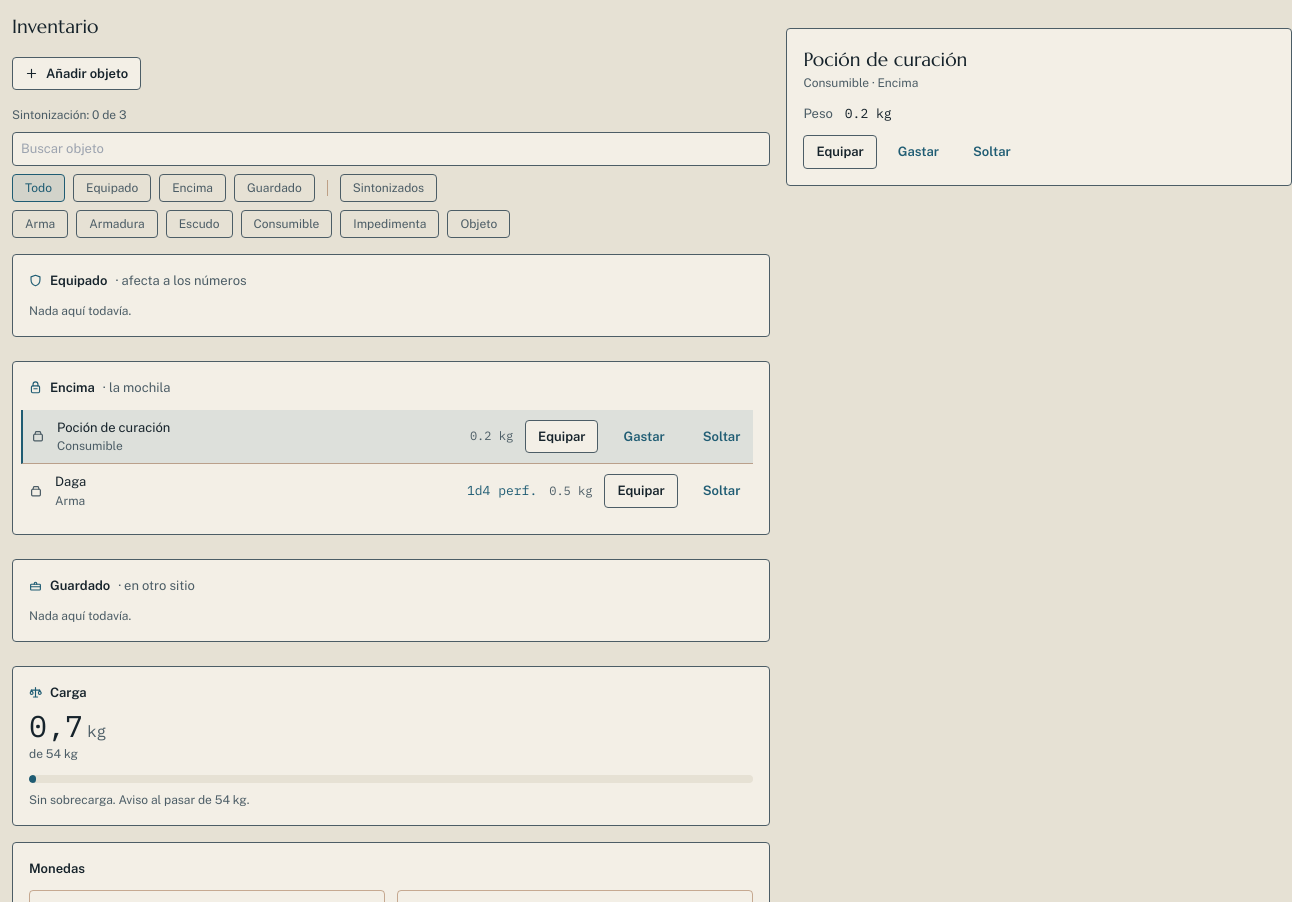
Scenario: PaginaDeInventario — a página (tarea 9) › HP-2: a página, equipar un arma desde la lista pregunta la mano en el detalle, una sola vez
The width and height of the screenshot is (1292, 902).
Expected: the heading "Poción de curación" is shown, [803, 47, 967, 71]
Click the button "Equipar" next to "0.5 kg" at [641, 491], box [604, 474, 678, 508]
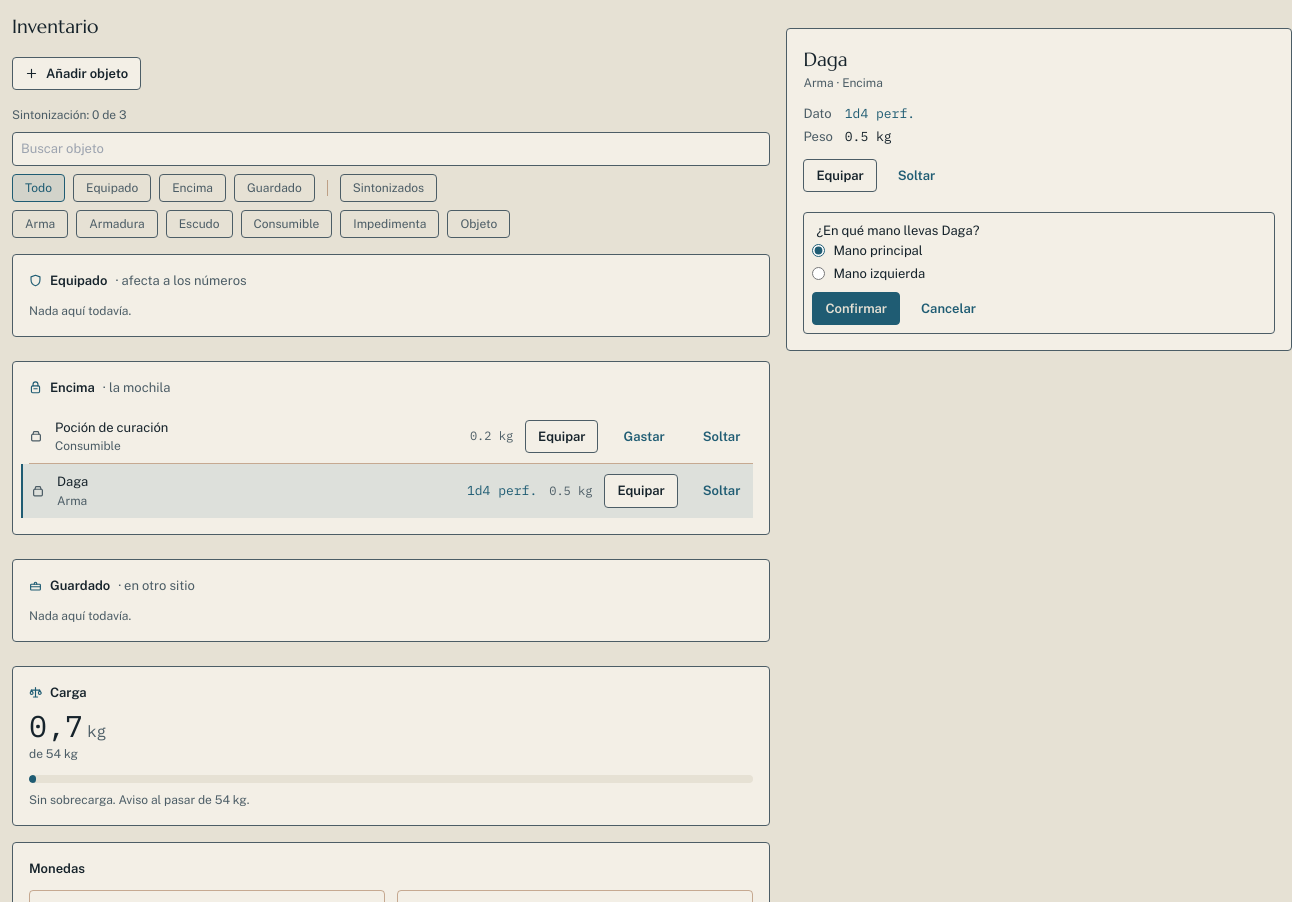
Result: the heading "Daga" is shown at [803, 47, 848, 71]
Result: the number of radio buttons labelled "Mano izquierda" is 1 at [812, 267, 825, 280]
